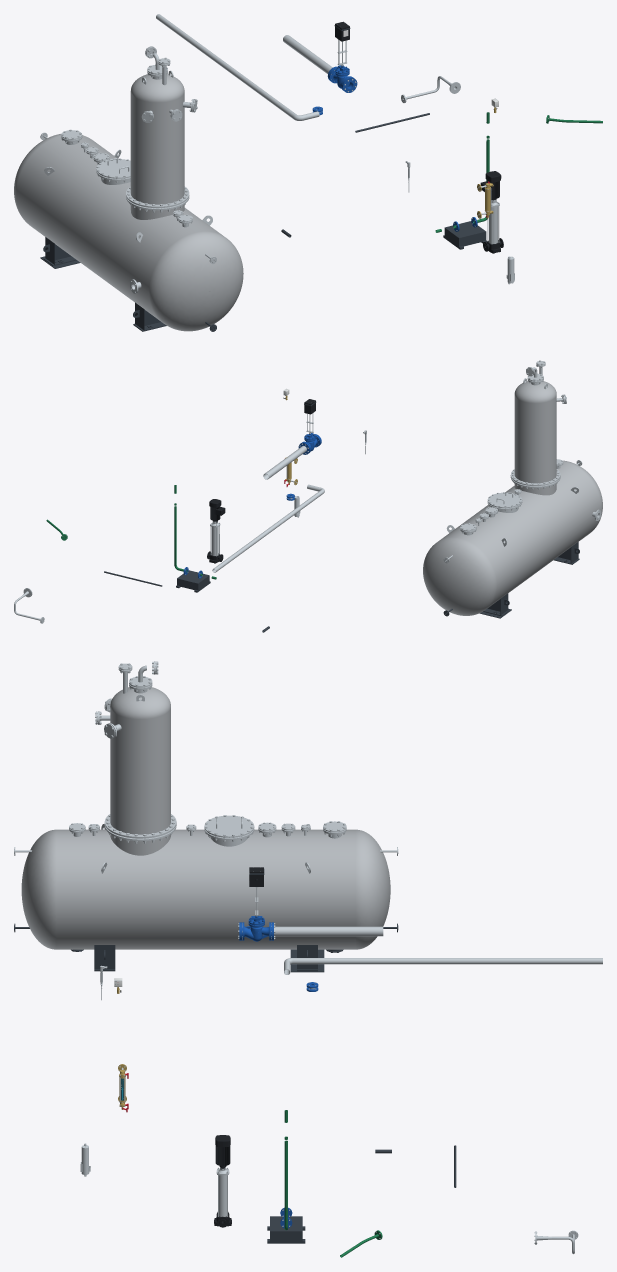
Rendered from s4000-1-By0-7Oyh.glb.
3 renders of one model, top to bottom at view 1: azimuth 30°, elevation 25°; view 2: azimuth 150°, elevation 25°; view 3: azimuth 270°, elevation 25°, orthographic. The views are drawn at different scales.
Parts seen in each view (by area): view 1: deaerator CAD solid 56, deaerator CAD solid 257, safety_vent_2 / steel, pump_branch_2 / dark, deaerator CAD solid 408, steam_delivery / steel; view 2: deaerator CAD solid 56, deaerator CAD solid 257, safety_vent_2 / steel, pump_branch_2 / dark, deaerator CAD solid 408, steam_delivery / steel; view 3: deaerator CAD solid 56, deaerator CAD solid 257, safety_vent_2 / steel, steam_delivery / steel, pump_branch_2 / dark, deaerator CAD solid 408.
Part boxes in pixels (box(x1,y1,x2,y2)): deaerator CAD solid 56: box(14, 134, 243, 331); deaerator CAD solid 257: box(130, 74, 184, 204); safety_vent_2 / steel: box(156, 14, 319, 120); pump_branch_2 / dark: box(443, 221, 486, 249); deaerator CAD solid 408: box(96, 159, 130, 178); steam_delivery / steel: box(283, 35, 332, 73); deaerator CAD solid 56: box(423, 460, 602, 615); deaerator CAD solid 257: box(514, 381, 556, 483); safety_vent_2 / steel: box(212, 484, 324, 572); pump_branch_2 / dark: box(176, 570, 210, 592); deaerator CAD solid 408: box(487, 492, 522, 507); steam_delivery / steel: box(263, 446, 306, 479); deaerator CAD solid 56: box(21, 829, 390, 949); deaerator CAD solid 257: box(110, 687, 170, 834); safety_vent_2 / steel: box(284, 958, 602, 974); steam_delivery / steel: box(274, 926, 383, 936); pump_branch_2 / dark: box(267, 1216, 305, 1243); deaerator CAD solid 408: box(204, 815, 254, 837).
Bounding box in the file's own units: 9.07 × 4.82 × 6.97.
